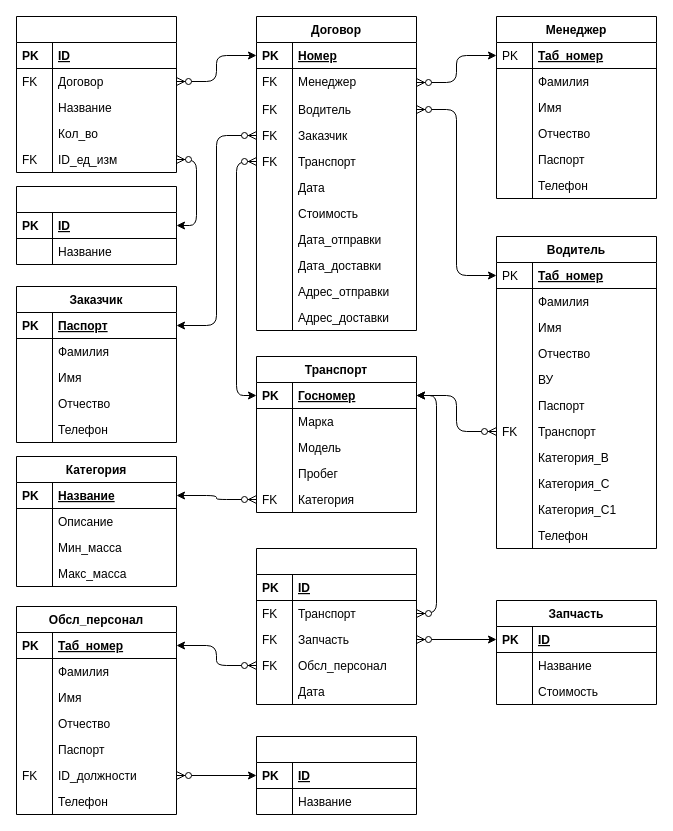
The diagram is 673 pixels wide and 831 high, and some of its shapes have lost their labels. The shapes that lost their labels are listed below. From the top down, each one's box as (x1, y1, x2, y2) in pixels, then its label:
(16, 16, 176, 172): Груз
(16, 186, 176, 264): Ед_измерения
(256, 548, 416, 704): Ремонт
(256, 736, 416, 814): Должность
